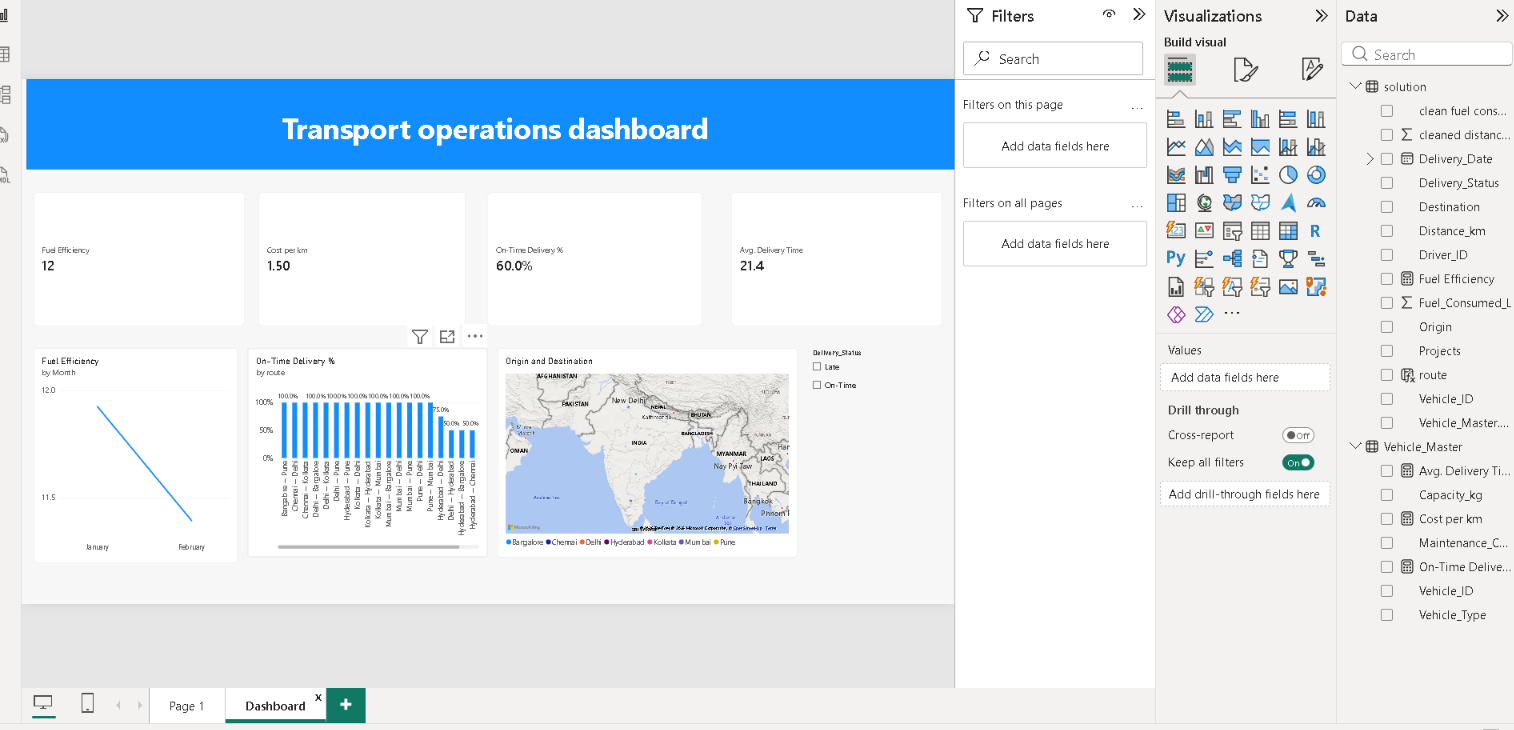

The page's visual inventory and layout, read from the dashboard file:
{"tool":"powerbi","page":{"name":"Dashboard","canvas":[1920,1080],"ordinal":1},"visuals":[{"type":"shape","box":[10.3,0,1910.1,185.2],"z":0},{"type":"textbox","box":[10.3,59.7,1910.1,261.4],"z":1},{"type":"cardVisual","fields":{"Data":["solution.Fuel Efficiency"]},"box":[24.7,232.6,434.3,275.8],"z":2},{"type":"cardVisual","fields":{"Data":["Vehicle_Master.Cost per km"]},"box":[487.8,232.6,426.1,275.8],"z":3},{"type":"cardVisual","fields":{"Data":["Vehicle_Master.On-Time Delivery %"]},"box":[959.2,232.6,442.5,275.8],"z":4},{"type":"cardVisual","fields":{"Data":["Vehicle_Master.Avg. Delivery Time"]},"box":[1461.4,232.6,434.3,275.8],"z":5},{"type":"lineChart","fields":{"Category":["solution.Delivery_Date.Variation.Date Hierarchy.Month"],"Y":["solution.Fuel Efficiency"]},"box":[24.7,553.7,419.9,442.5],"z":6},{"type":"clusteredColumnChart","fields":{"Category":["solution.route"],"Y":["Vehicle_Master.On-Time Delivery %"]},"box":[465.2,553.7,494,430.2],"z":7},{"type":"filledMap","fields":{"Category":["solution.Origin"],"Series":["solution.Destination"]},"box":[979.8,553.7,617.5,430.2],"z":8},{"type":"slicer","fields":{"Values":["solution.Delivery_Status"]},"box":[1619.9,553.7,275.8,430.2],"z":9}]}

Visuals, with their boxes on the page's 1920x1080 design canvas (x1, y1, x2, y2). These are canvas units, not pixel positions in the 1514x730 screenshot, which may show the page scaled, cropped or inside an application window:
shape: box(10, 0, 1920, 185)
textbox: box(10, 60, 1920, 321)
cardVisual - solution.Fuel Efficiency: box(25, 233, 459, 508)
cardVisual - Vehicle_Master.Cost per km: box(488, 233, 914, 508)
cardVisual - Vehicle_Master.On-Time Delivery %: box(959, 233, 1402, 508)
cardVisual - Vehicle_Master.Avg. Delivery Time: box(1461, 233, 1896, 508)
lineChart - solution.Delivery_Date.Variation.Date Hierarchy.Month x solution.Fuel Efficiency: box(25, 554, 445, 996)
clusteredColumnChart - solution.route x Vehicle_Master.On-Time Delivery %: box(465, 554, 959, 984)
filledMap - solution.Origin x solution.Destination: box(980, 554, 1597, 984)
slicer - solution.Delivery_Status: box(1620, 554, 1896, 984)
